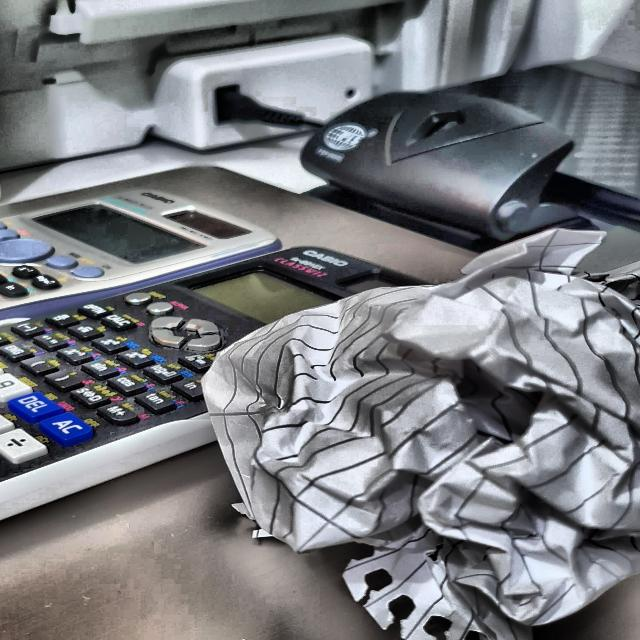paper: (201, 214, 640, 640)
